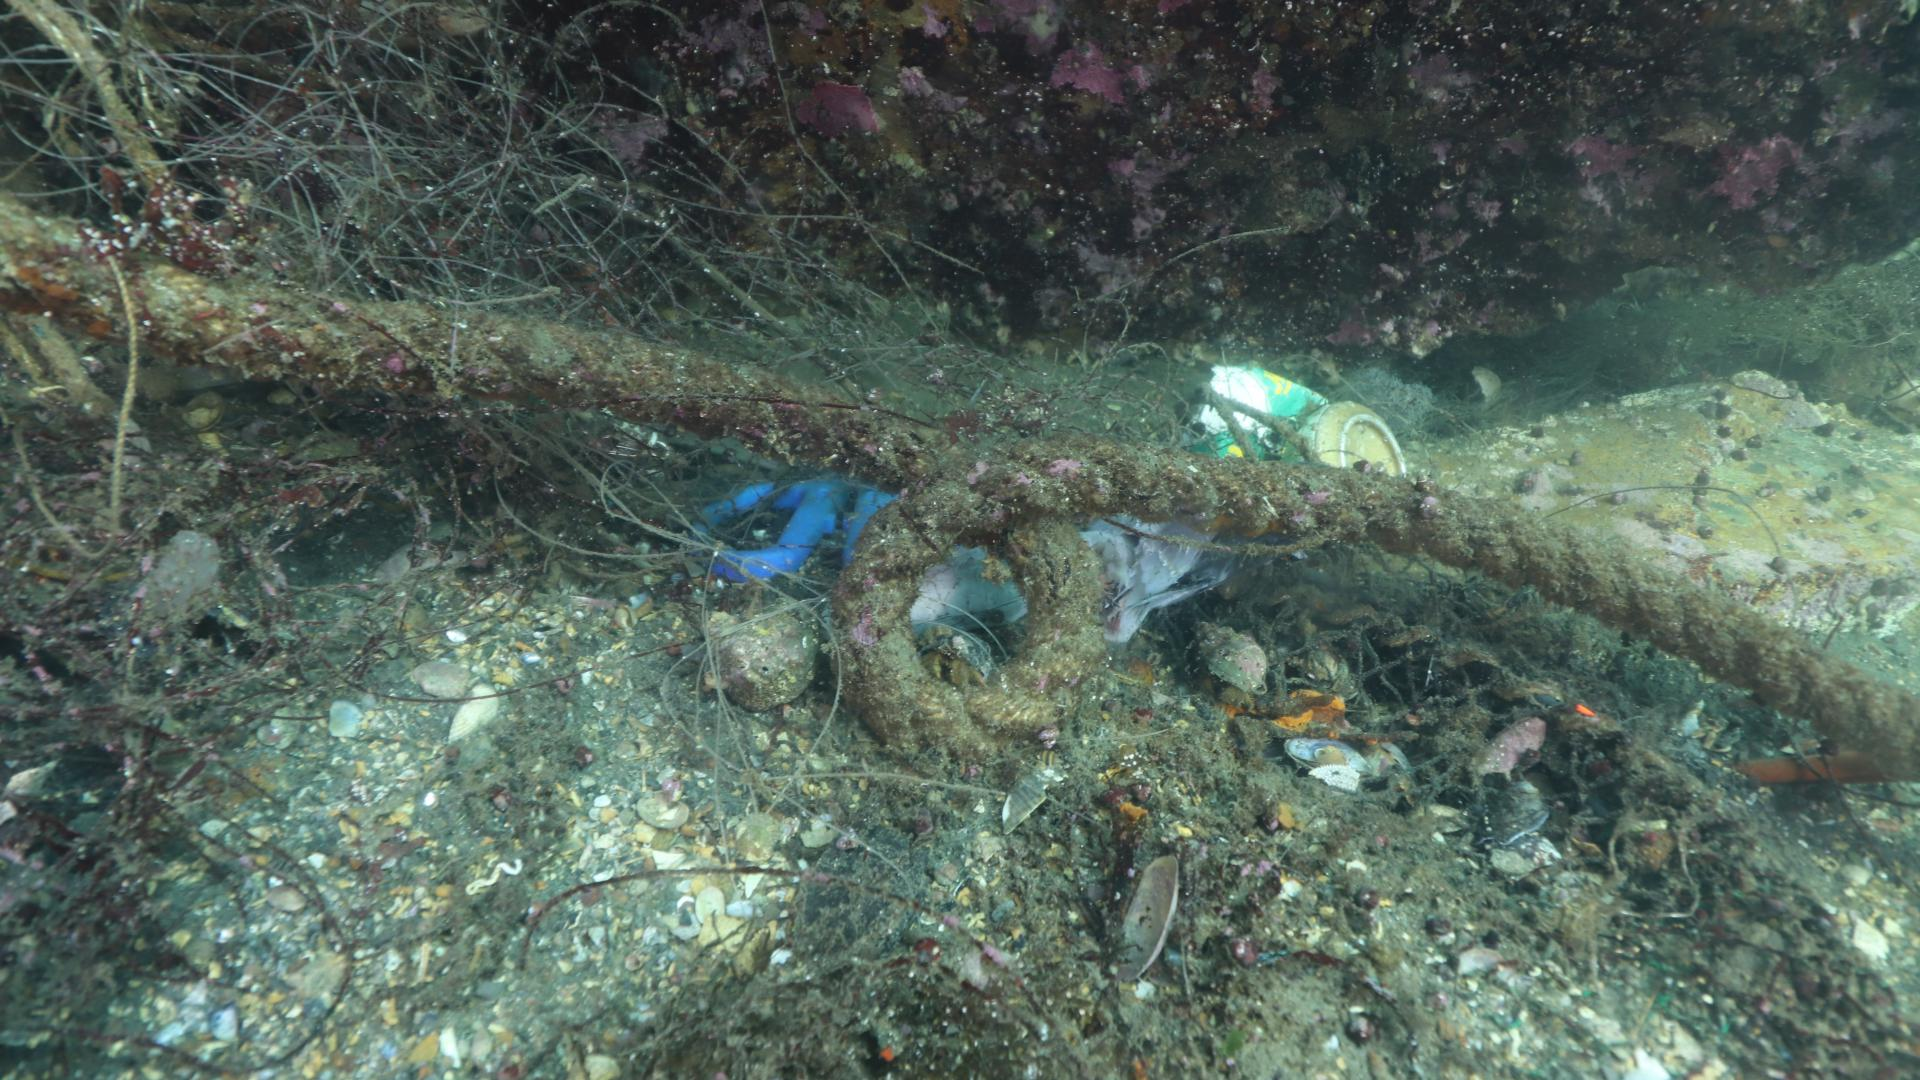rope: (0, 190, 1920, 781)
